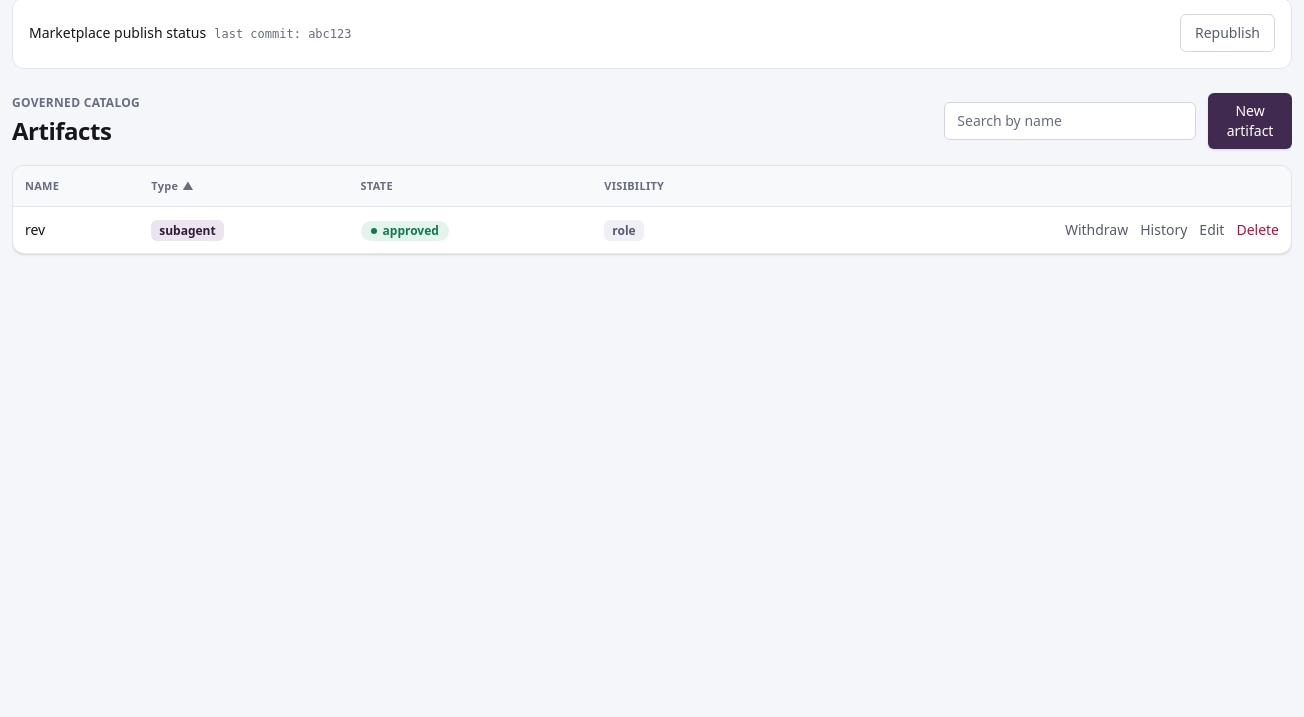
Test case: edit form prefills content and memorySeed from GET /{id}, not the slim list row
Click the button with aria-label "edit rev" at (1212,230), box x1=1199 y1=220 x2=1224 y2=240
(page scrolled)
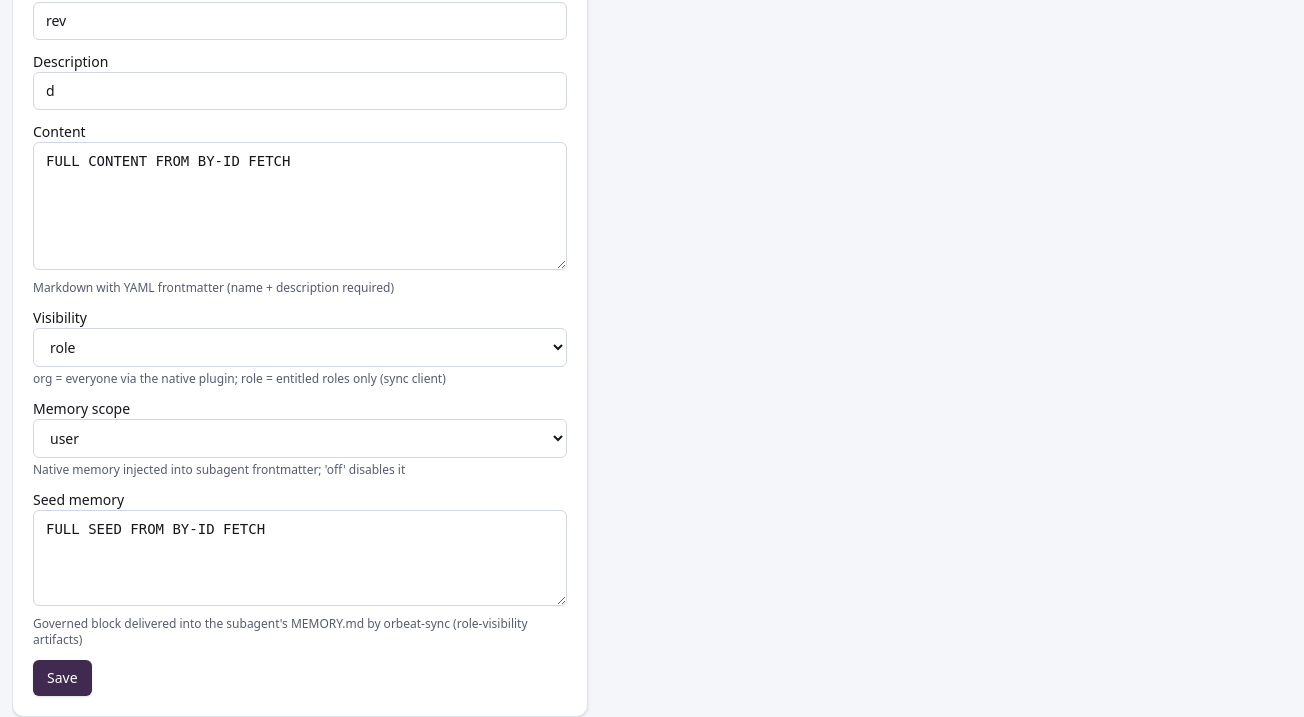
Expected: the text box labelled "Content" holds "FULL CONTENT FROM BY-ID FETCH", x1=33 y1=142 x2=567 y2=270
Expected: the text box labelled "Seed memory" holds "FULL SEED FROM BY-ID FETCH", x1=33 y1=510 x2=567 y2=606
Expected: the text box labelled "Content" is not empty, x1=33 y1=142 x2=567 y2=270
